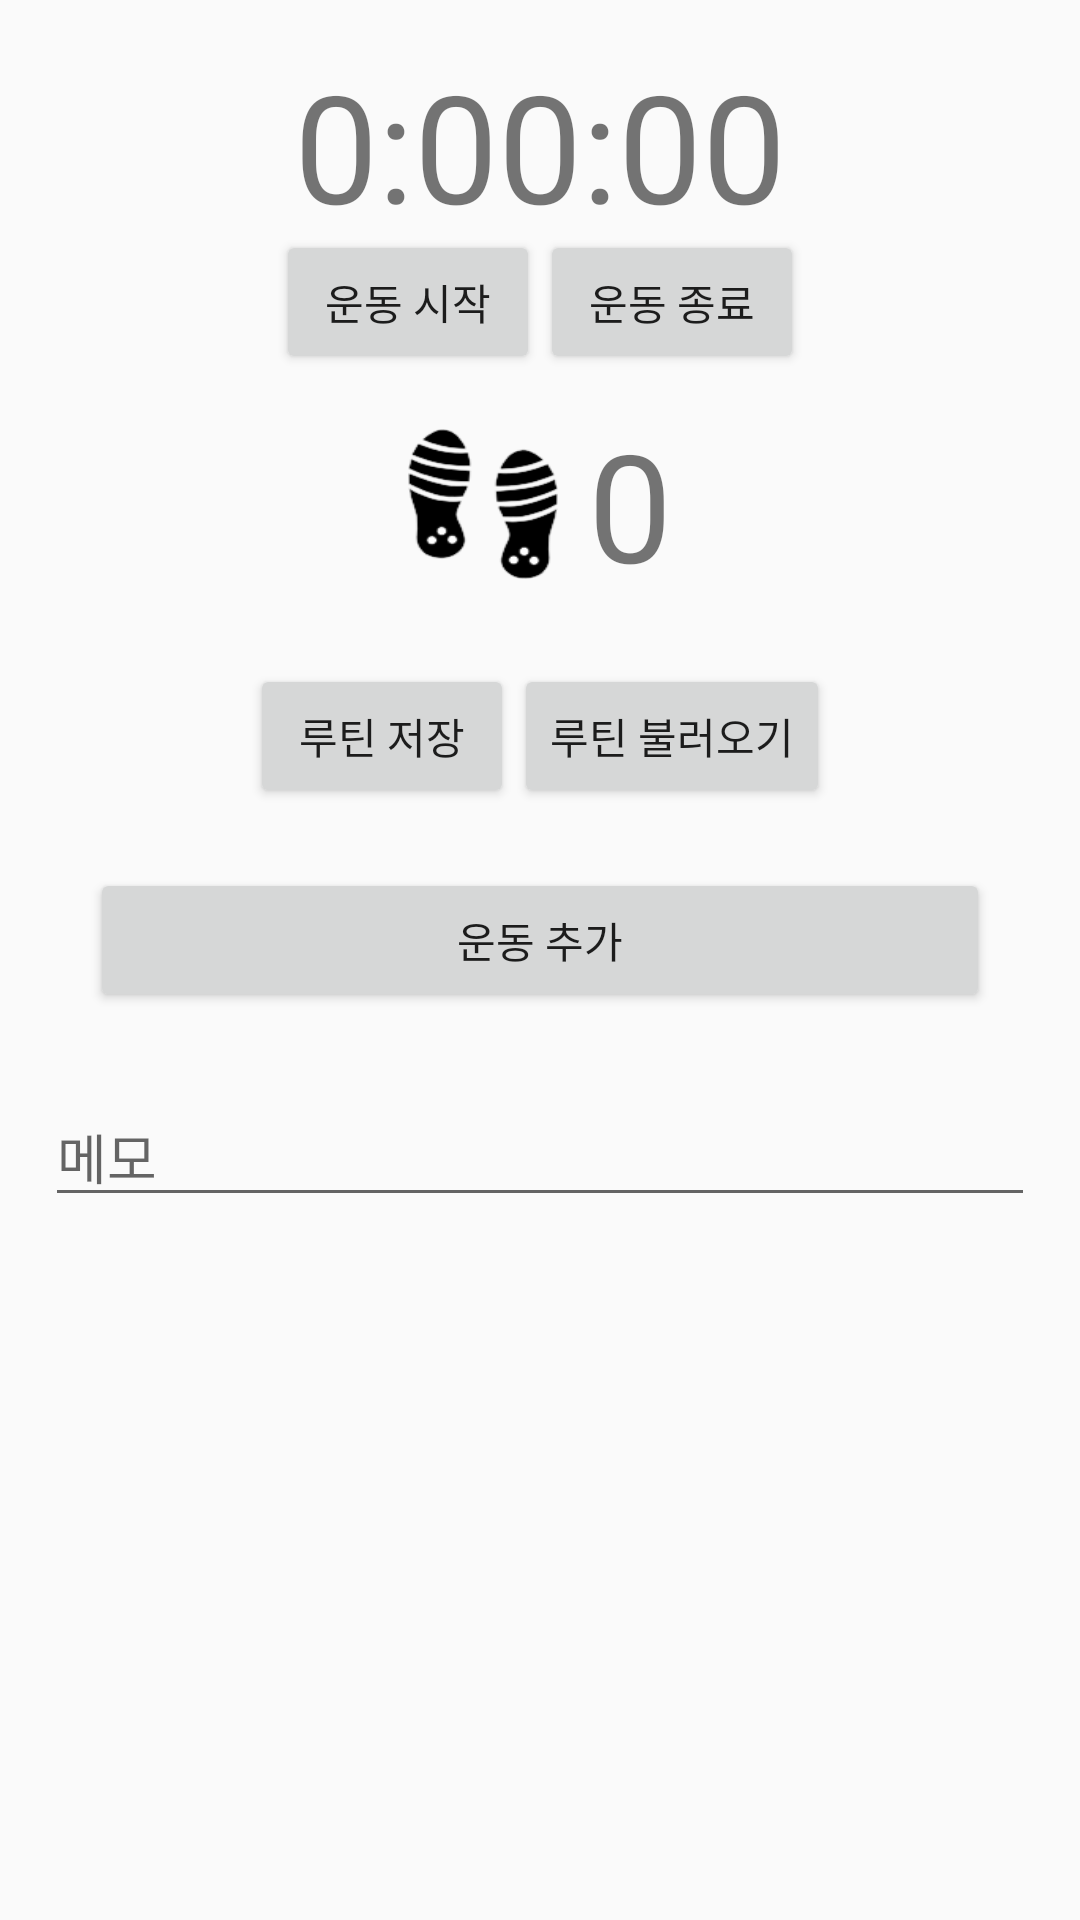

Screen size 1080 × 1920. Icon name, then its center in pixels as (x=x, y=y):
footstep: (x=483, y=504)
